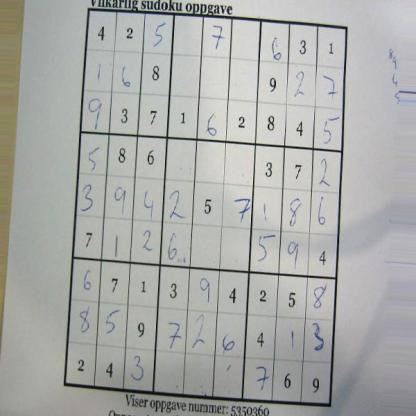sudoku: (62, 5, 350, 412)
